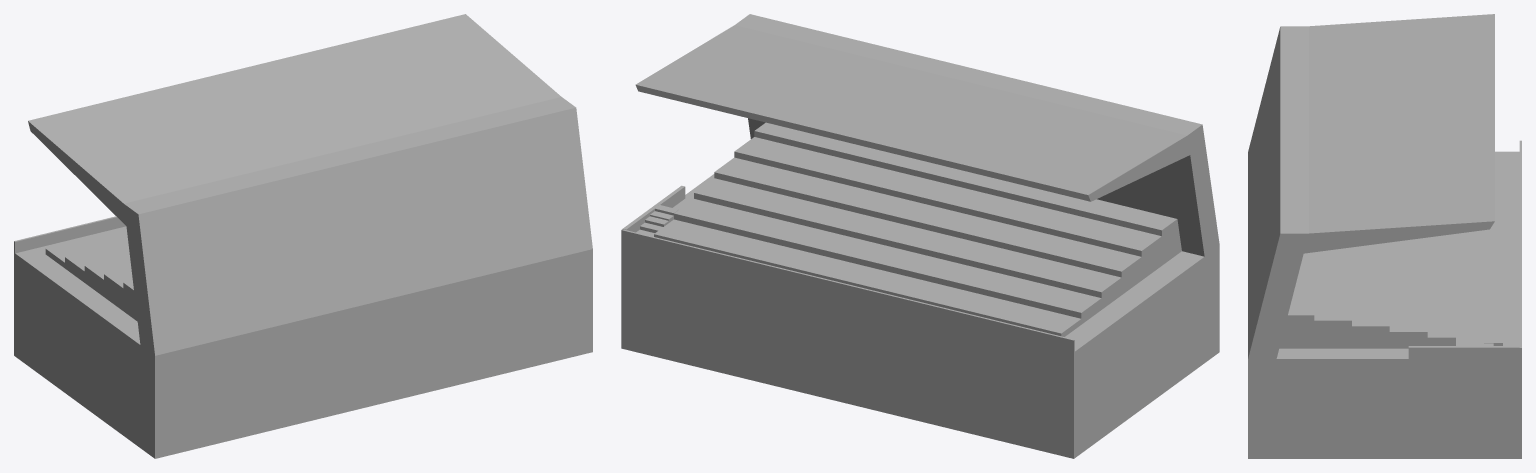
File: Stand_1.fbx
3 renders of one model, left to right at view 1: azimuth 30°, elevation 25°; view 2: azimuth 150°, elevation 25°; view 3: azimuth 270°, elevation 25°, orthographic. The views are drawn at different scales.
Visible parts, largest first — view 1: Plane; view 2: Plane; view 3: Plane.
Boxes of the visible parts, <box> form: Plane: <box>14,14,592,458</box>; Plane: <box>621,14,1219,458</box>; Plane: <box>1248,14,1521,458</box>.
Bounding box in the file's own units: 40 × 21.39 × 22.32.
